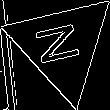N_E: (34, 20, 91, 70)
